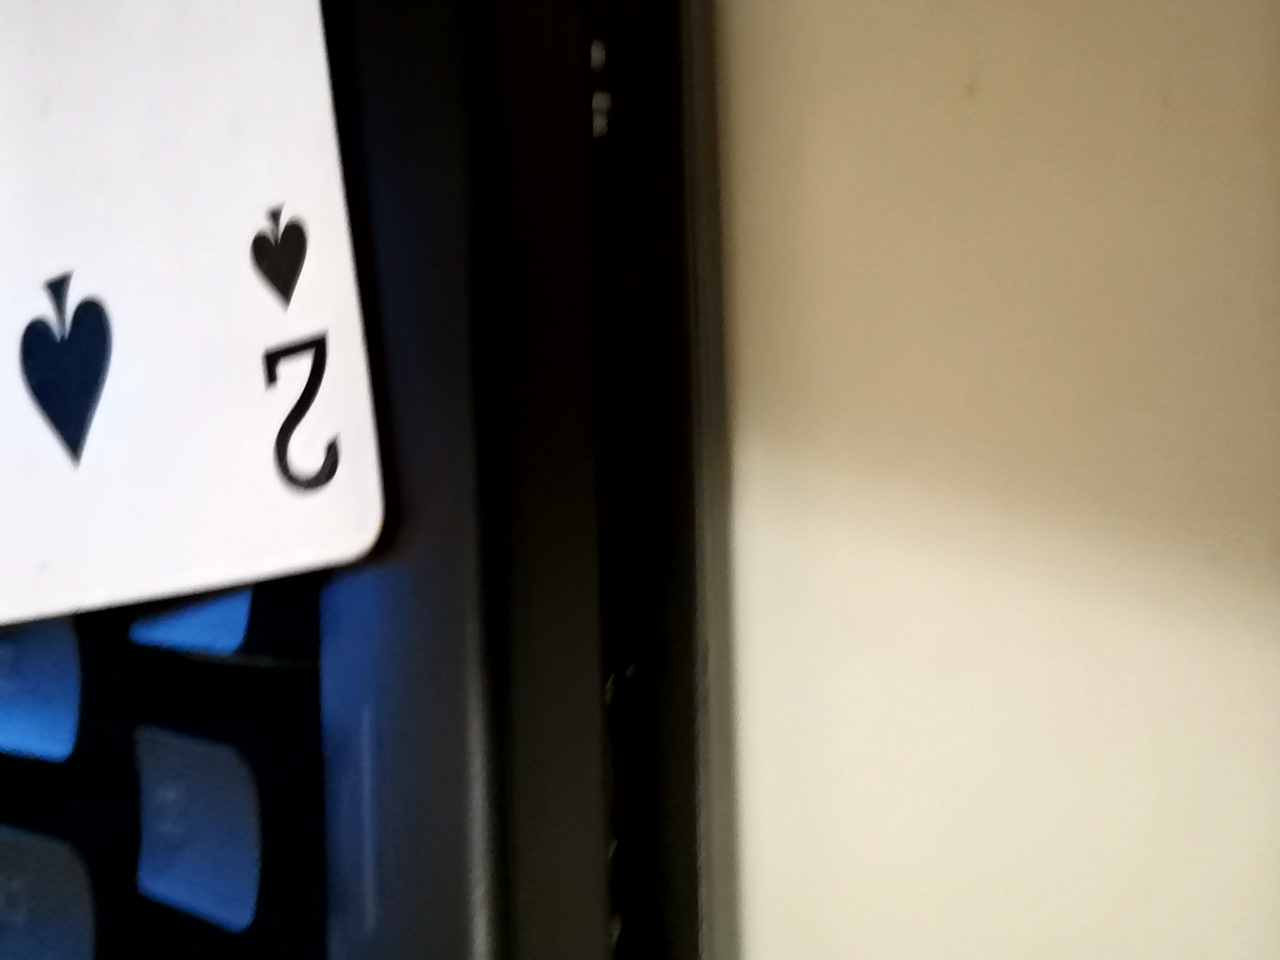ht 2: (0, 0, 362, 703)
